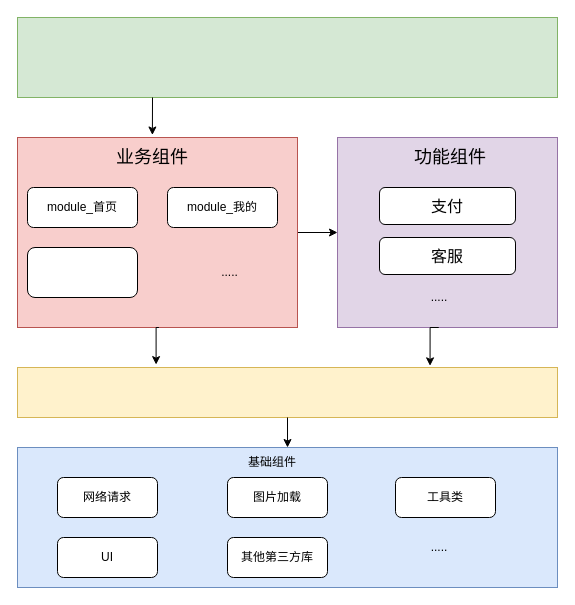
The diagram is 575 pixels wide and 605 high, and some of its shapes have lost their labels. The shapes that lost their labels are listed below. From the top down, each one's centre as x and y in pixels, then its label:
At (x=287, y=57): "APP Moudle【入口】".
At (x=82, y=272): "module_登录".
At (x=287, y=392): "lib_common".
